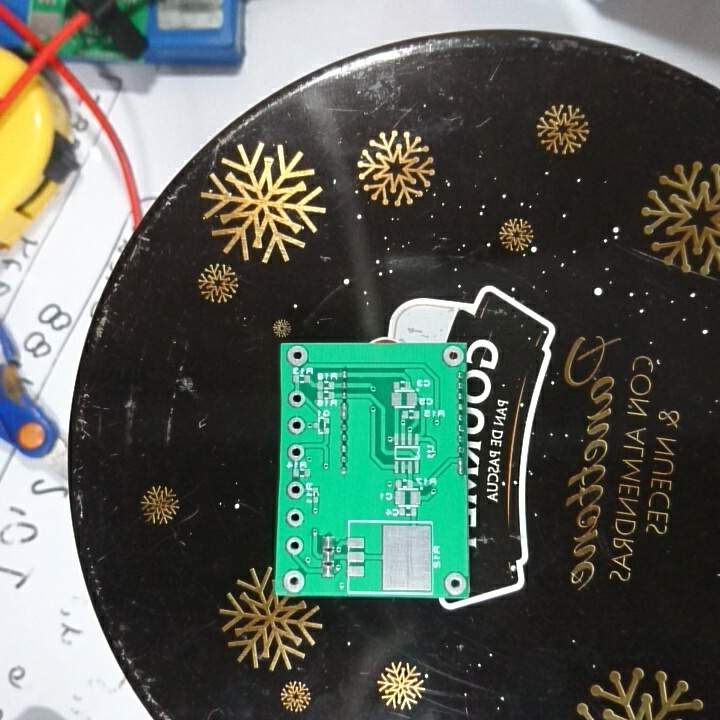F: (441, 570, 469, 597), (281, 568, 309, 593), (284, 344, 310, 369), (442, 343, 465, 369), (285, 479, 307, 503), (284, 506, 305, 529), (287, 415, 308, 437), (284, 534, 304, 557), (286, 442, 307, 463), (286, 389, 305, 409)
P: (338, 400, 351, 422), (455, 456, 465, 479)
